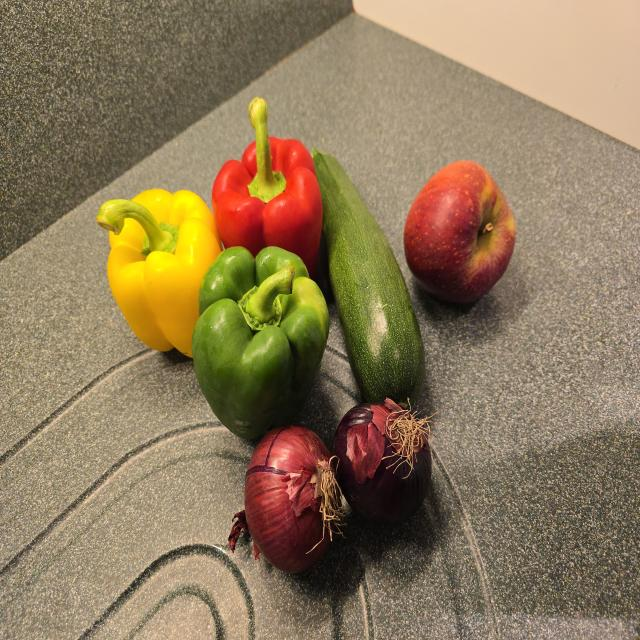Apple: (404, 161, 516, 303)
Bell Pepper: (192, 247, 329, 439), (96, 189, 222, 357), (212, 98, 322, 278)
Courgette: (312, 149, 424, 402)
Onion: (230, 425, 348, 573), (334, 401, 431, 524)
